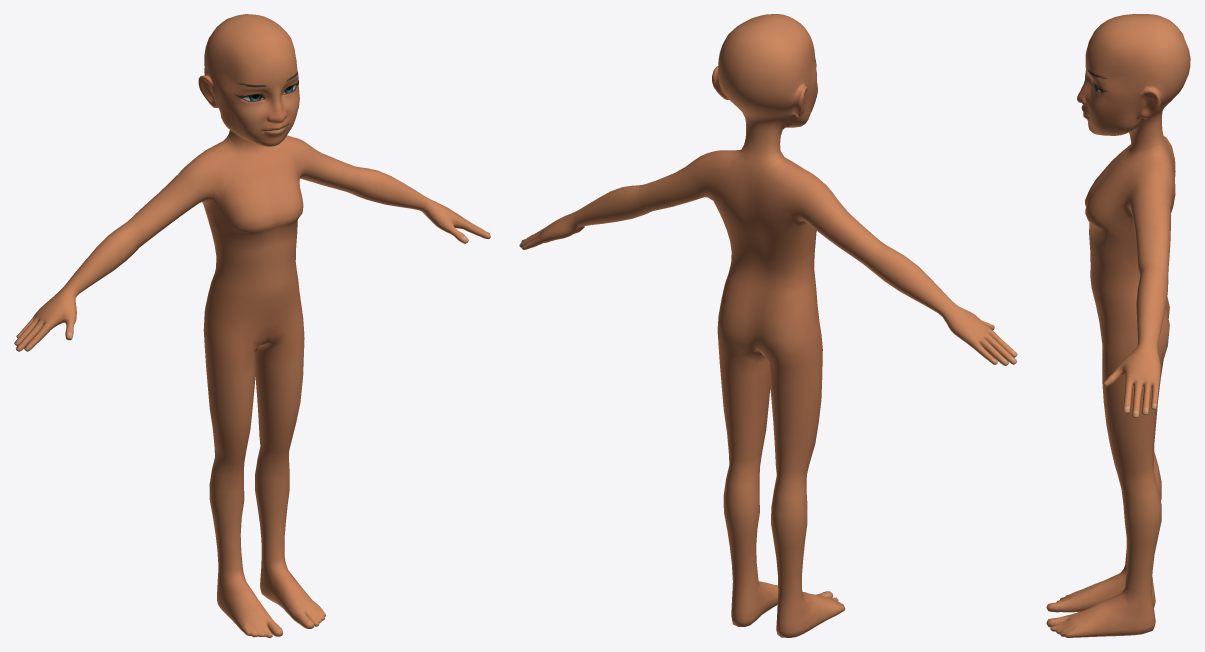
The model's file is frame_0082.glb.
The picture shows the model from 3 angles, left to right: view 1: azimuth 30°, elevation 25°; view 2: azimuth 150°, elevation 25°; view 3: azimuth 270°, elevation 25°; orthographic projection. The views are drawn at different scales.
Visible parts, largest first — view 1: frame_0082_head_geo; view 2: frame_0082_head_geo; view 3: frame_0082_head_geo.
Boxes of the visible parts, x1,y1,x2,y2 form: frame_0082_head_geo: [14, 14, 490, 637]; frame_0082_head_geo: [519, 14, 1017, 637]; frame_0082_head_geo: [1046, 14, 1190, 637].
Size of the model in its own units: 1.28 by 1.5 by 0.3253.
3 materials, 3 textured.
